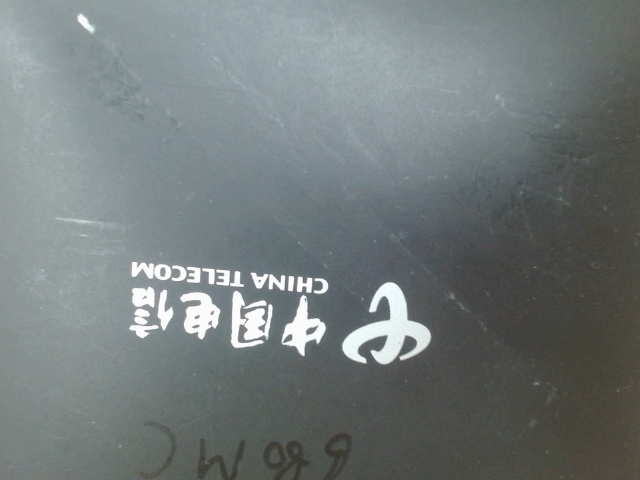AB_ChinaTelecom: (117, 248, 441, 375)
